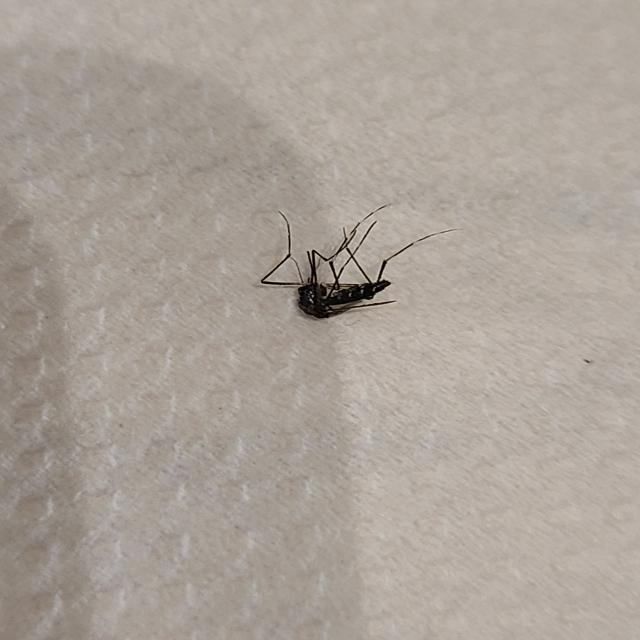albopictus: (248, 193, 462, 322)
